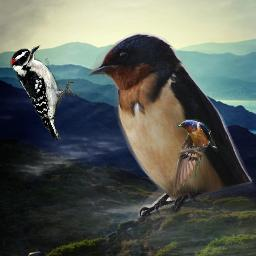Swallow: (87, 32, 254, 223), (171, 119, 218, 194)
Woodpecker: (10, 45, 79, 140)
